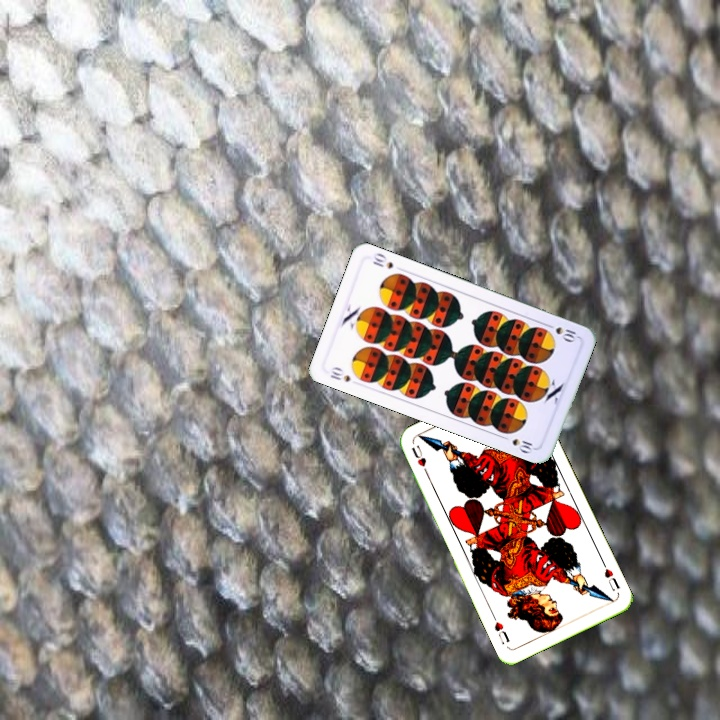HU: (407, 441, 431, 479), (600, 564, 623, 594)
S10: (542, 319, 579, 344), (326, 363, 353, 385)
